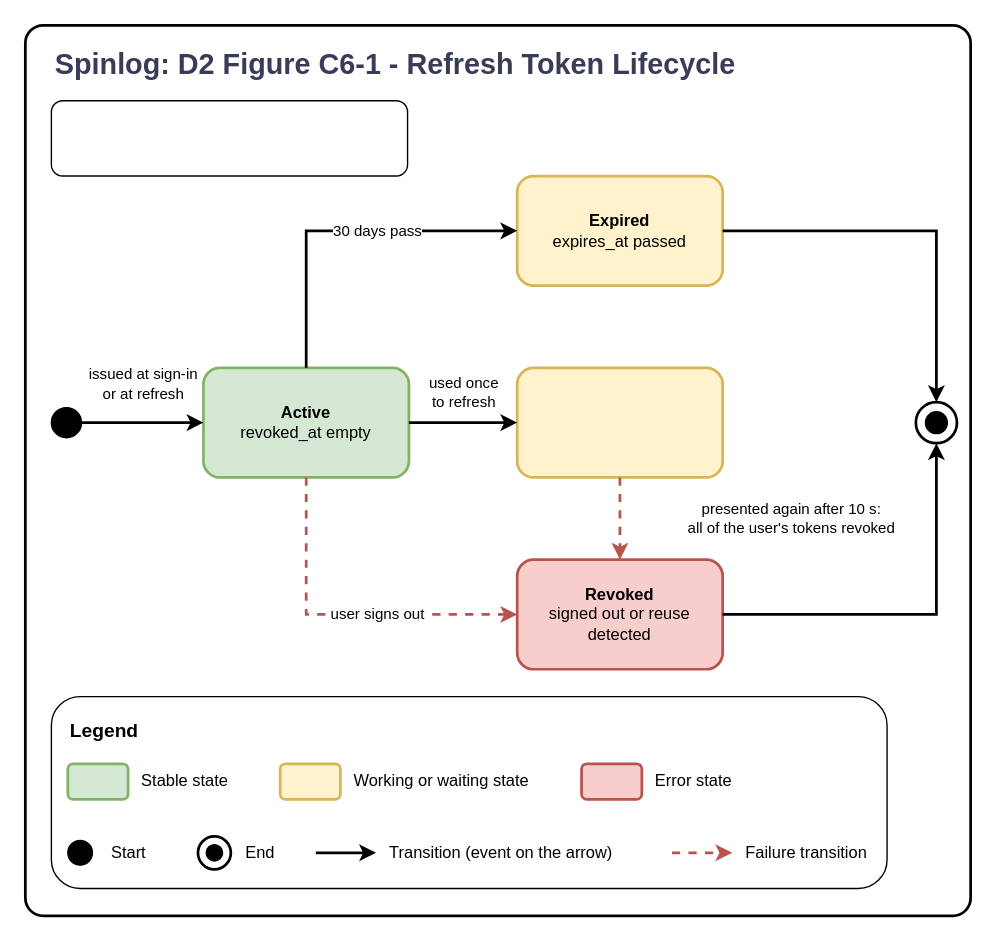
The diagram is 995 pixels wide and 940 high, and some of its shapes have lost their labels. The shapes that lost their labels are listed below. From the top down, each one's centre as x and y in pixels, then its label:
At (229,137): "Goal: Catalog your vinyl records, track their value, and log every play".
At (619,422): "Rotated used once, revoked_at set".
